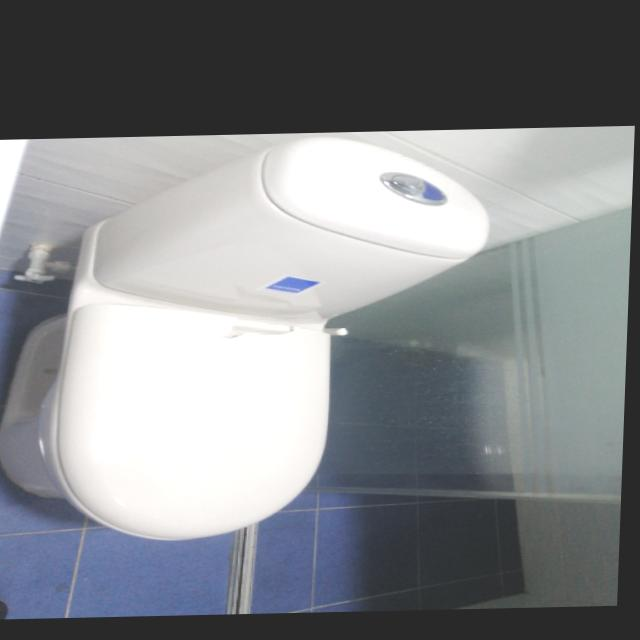toilet: (0, 134, 495, 545)
